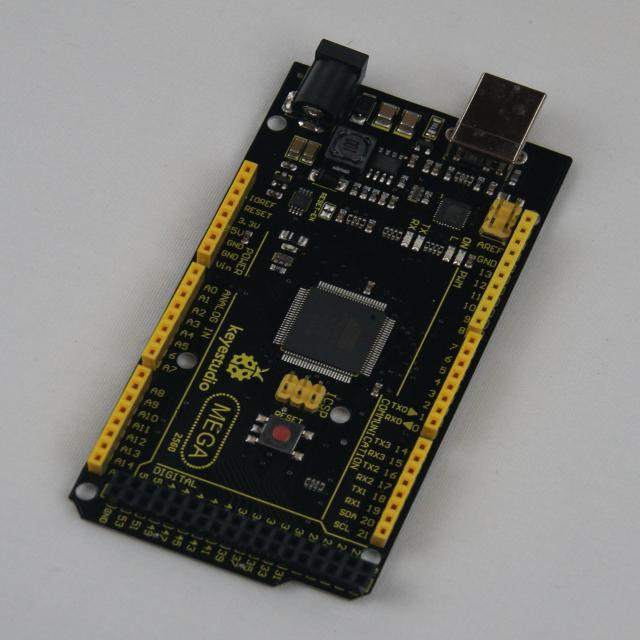Arduino Mega 2560 -Yellow-: (71, 41, 572, 598)
